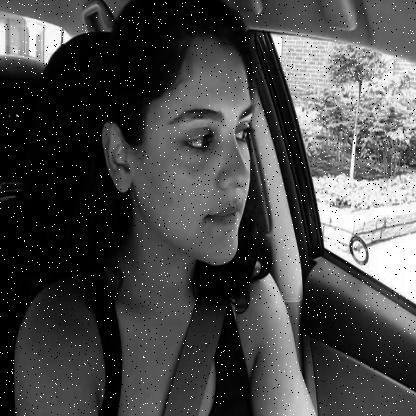seatbelt: (104, 0, 258, 416)
